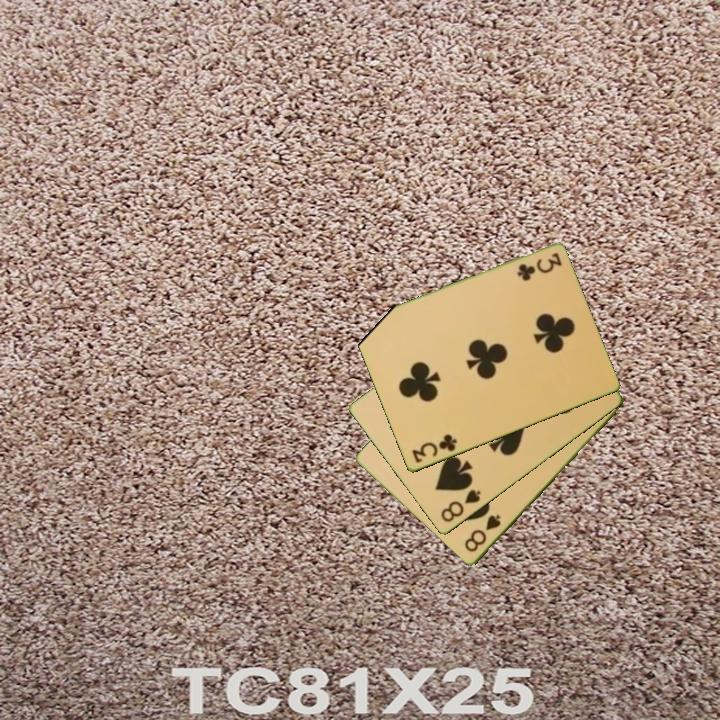3c: (408, 431, 460, 466), (513, 249, 565, 283)
8s: (461, 511, 504, 556), (437, 486, 484, 526)
